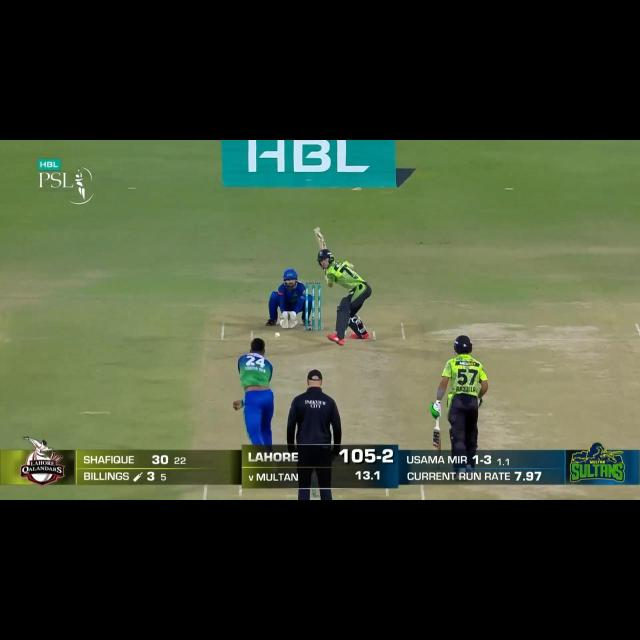bat: (312, 224, 329, 254), (428, 423, 444, 447)
toe: (312, 224, 324, 235)
